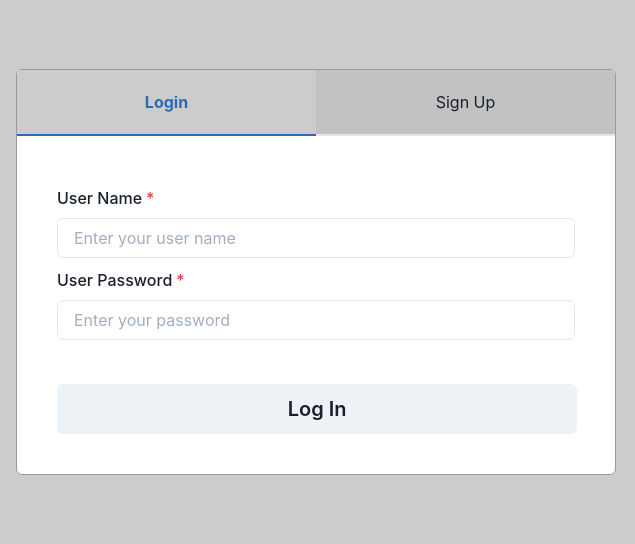
Test case: Login UI Tests › Displays error for submitting sign up form with invalid username
Click the tab "Sign Up" at (466, 103), box [316,70,615,136]
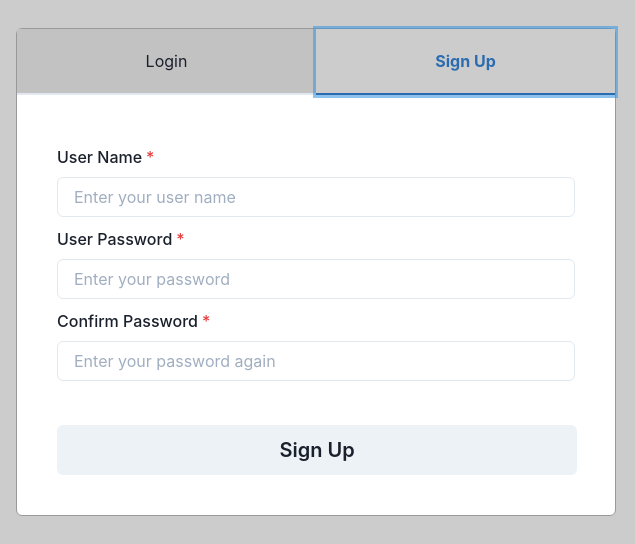
Check: the password field with placeholder "Enter your password again" is shown, box [57,341,575,381]
Type "abc" into the field with placeholder "Enter your user name" at (316, 197), box [57,177,575,217]
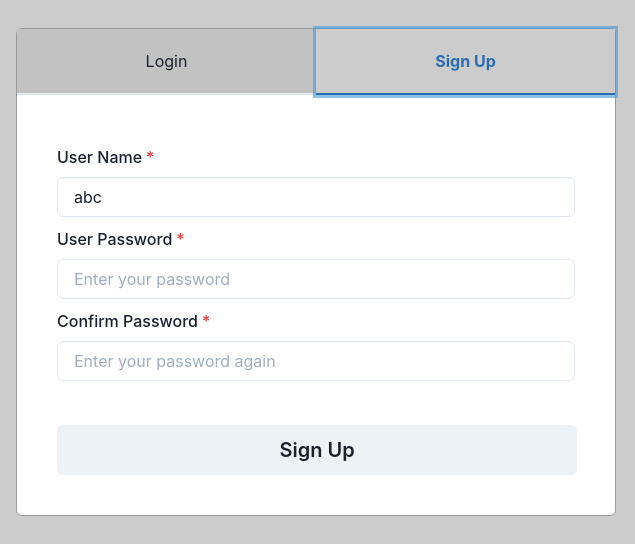
Type "1234567890" into the password field with placeholder "Enter your password" at (316, 279), box [57,259,575,299]
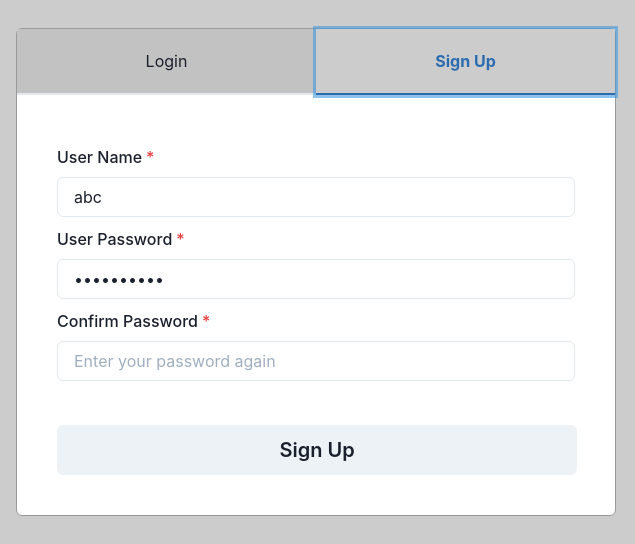
Type "1234567890" into the password field with placeholder "Enter your password again" at (316, 361), box [57,341,575,381]
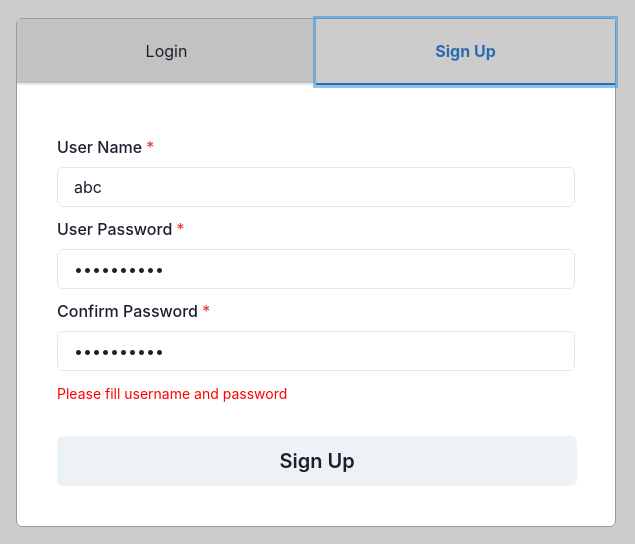
Click the button with test id "submitButton" at (317, 460), box [57,436,577,486]
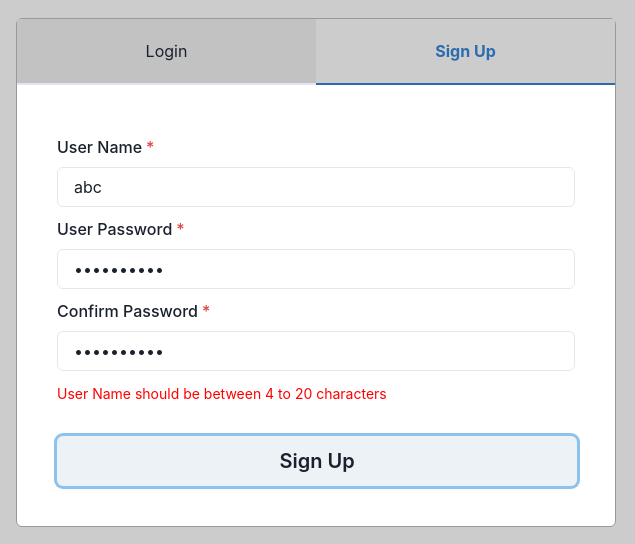
Check: the text with test id "error" reads "User Name should be between 4 to 20 characters", box [57,384,387,402]
